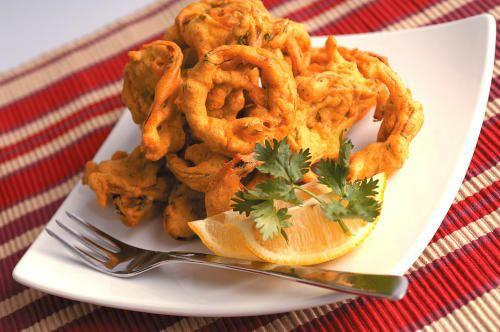OnionPakoda: (78, 0, 432, 265)
